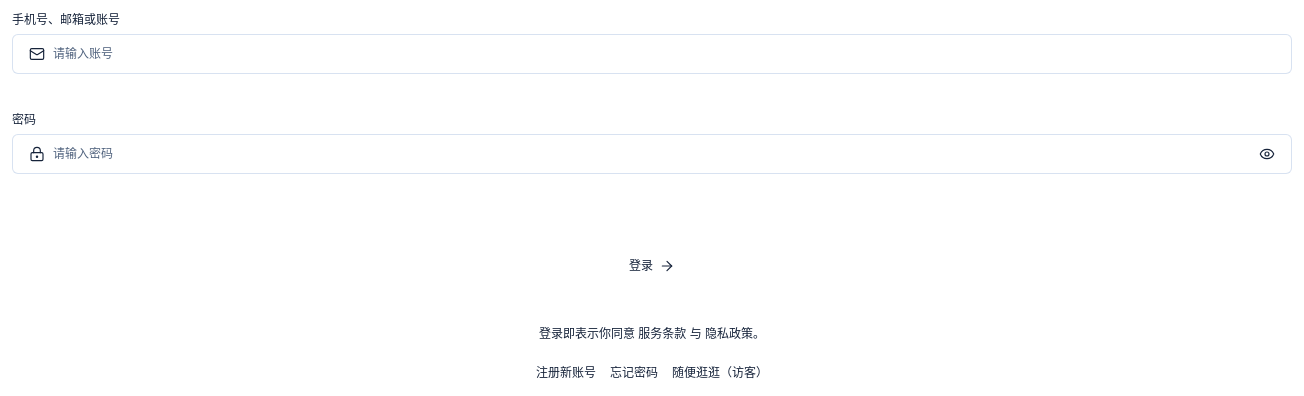
Test: AuthForm › 空提交显示逐字段错误
Click the button "登录".
click(652, 266)  # box left=12, top=244, right=1292, bottom=288
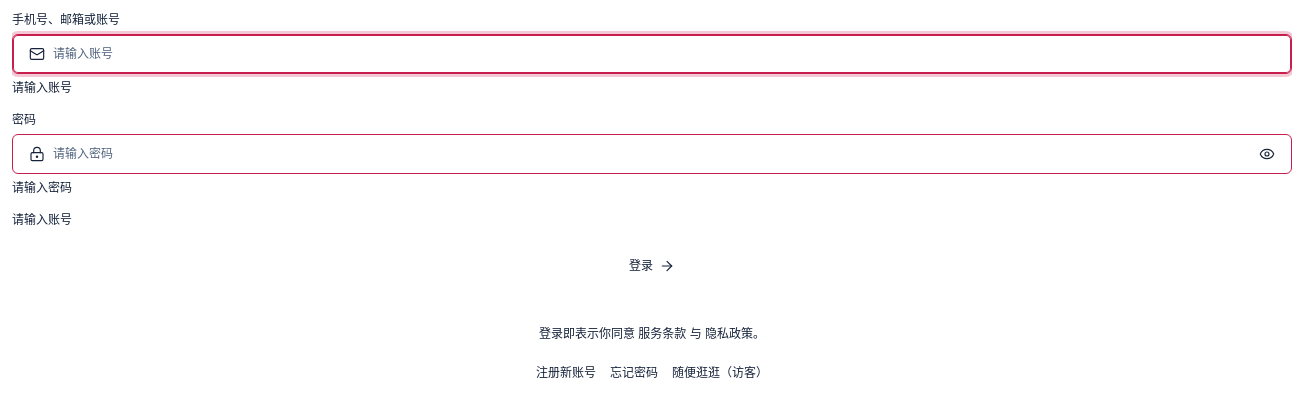
Expected: the text "请输入账号" below "手机号、邮箱或账号" is shown, left=12, top=80, right=72, bottom=95
Expected: the text "请输入密码" is shown, left=12, top=180, right=72, bottom=195
